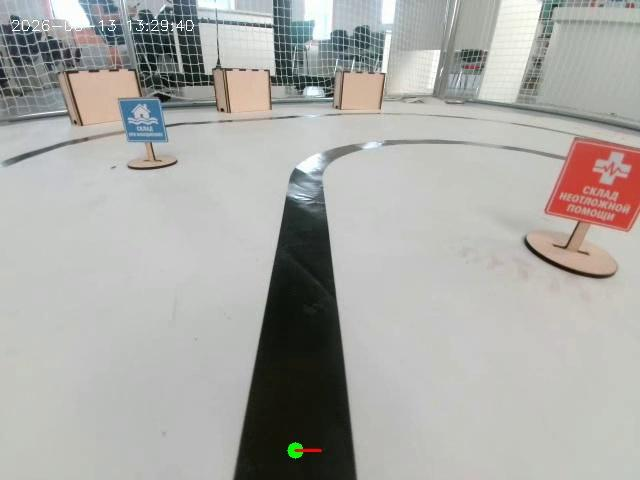flood: (122, 90, 173, 188)
medical: (522, 130, 640, 281)
